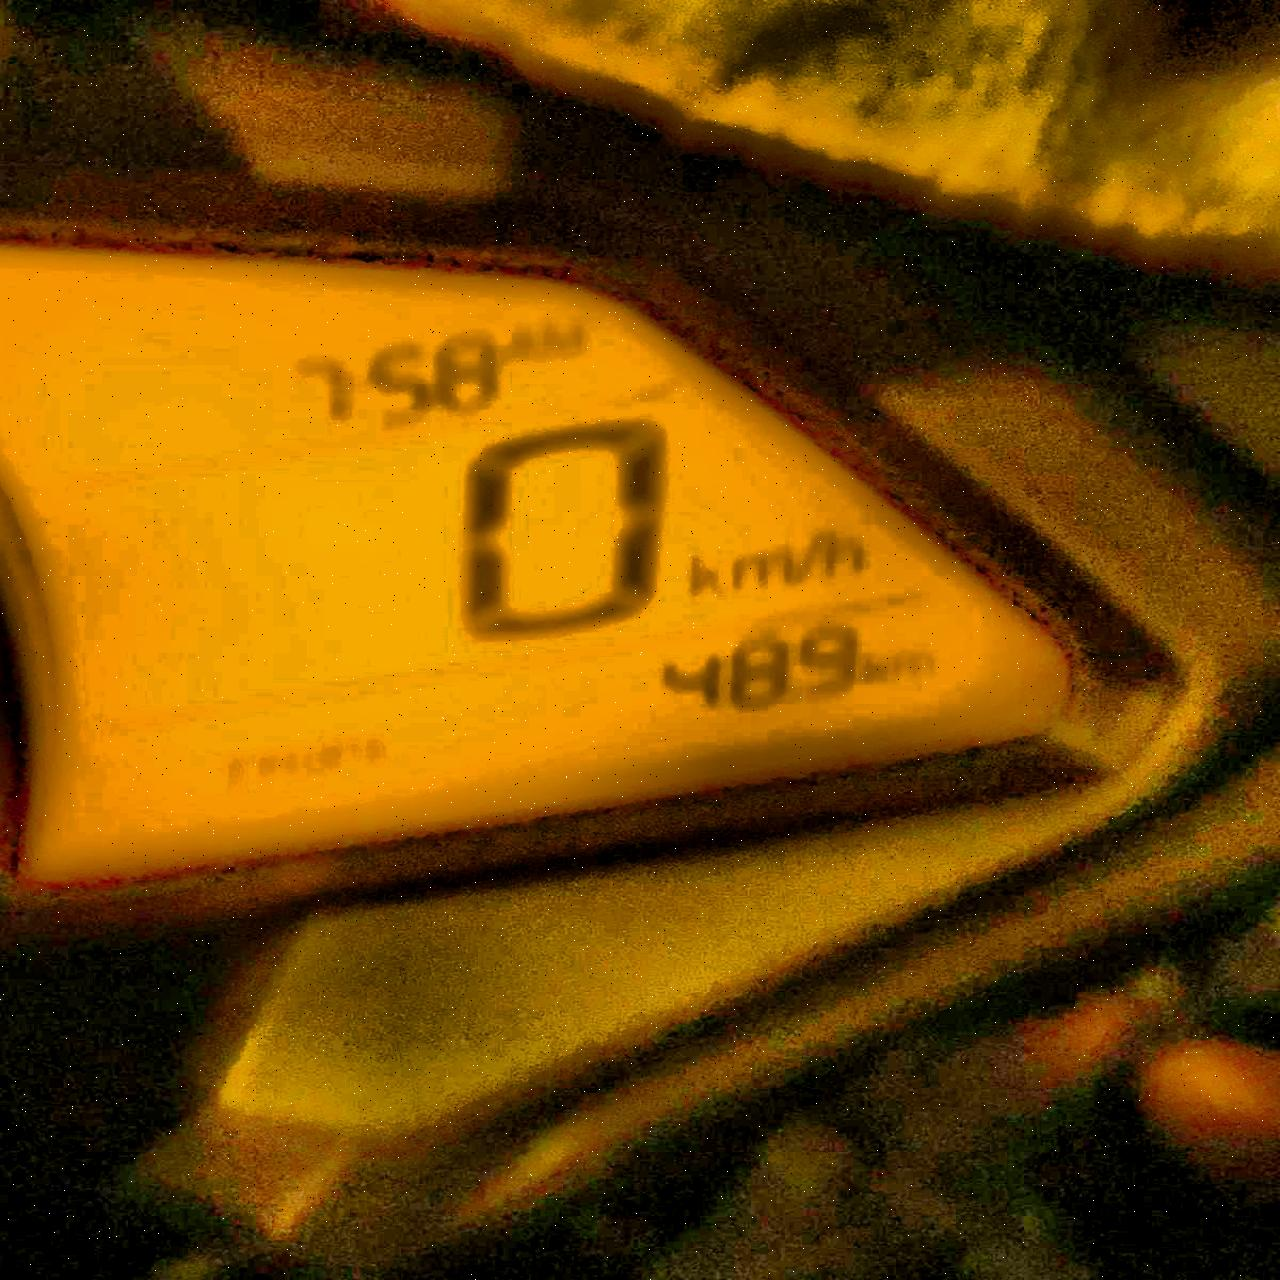0: (459, 424, 670, 634)
4: (654, 652, 724, 717)
5: (373, 345, 428, 427)
7: (287, 350, 359, 431)
8: (434, 333, 495, 410), (730, 635, 788, 714)
9: (798, 624, 855, 701)
X: (728, 547, 790, 595), (682, 546, 727, 604), (828, 530, 872, 584), (791, 530, 826, 591), (539, 316, 587, 355), (498, 321, 540, 356)
odometer: (0, 239, 1074, 905)
